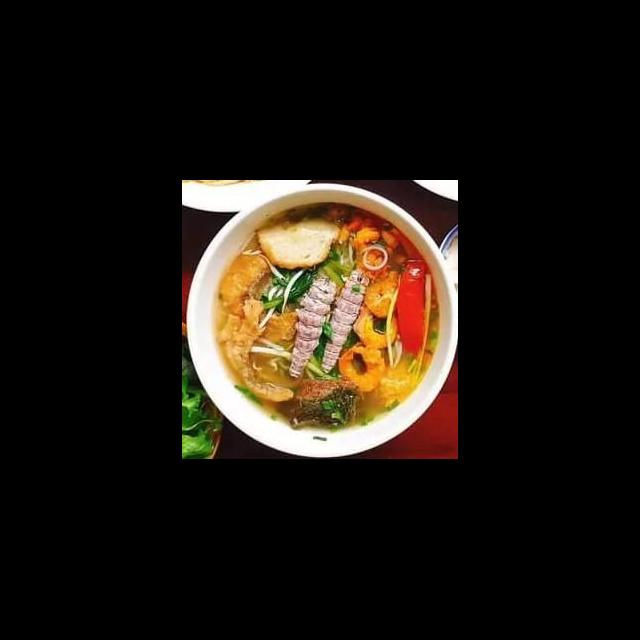ca: (208, 284, 269, 370)
tom: (244, 336, 302, 389), (286, 350, 339, 402)
tom tit: (260, 284, 371, 342), (263, 317, 375, 373)
